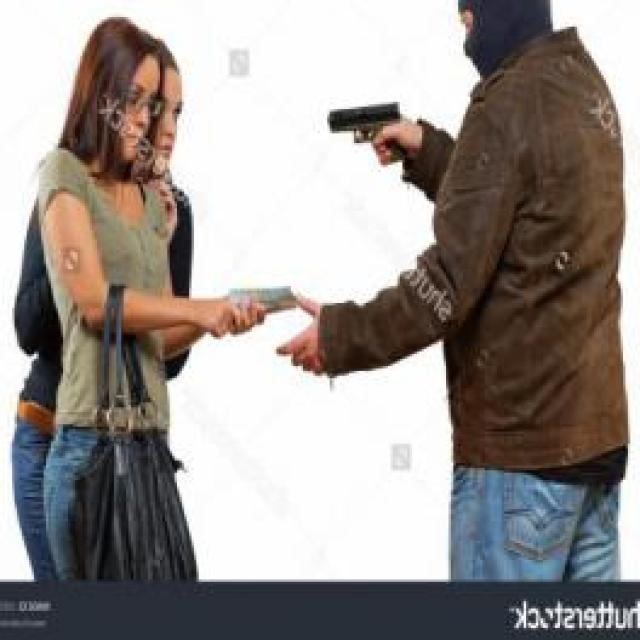pistol: (322, 102, 410, 165)
